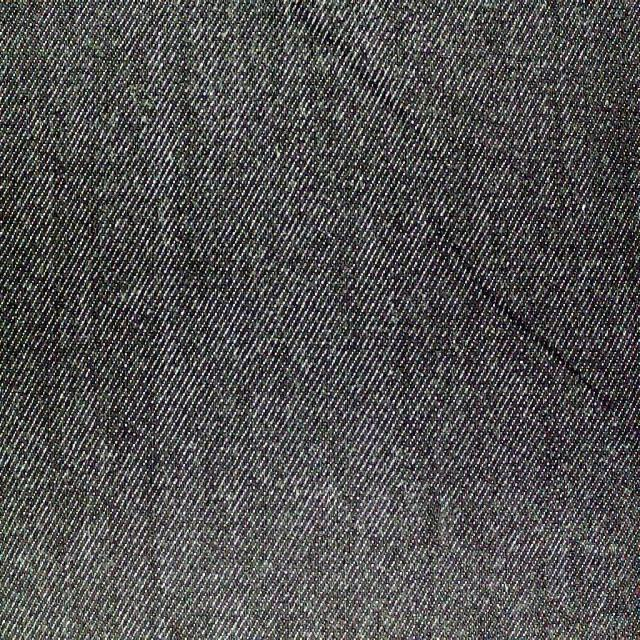defect: (439, 217, 625, 420)
